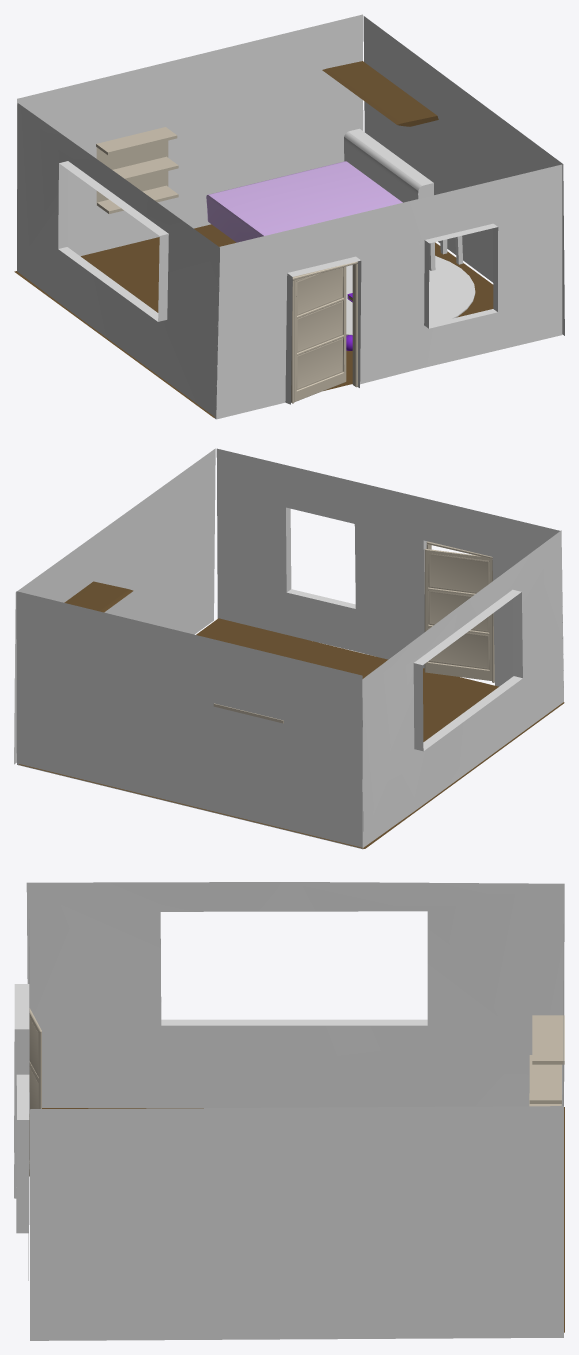
The model's file is Bedroom Game Last Final FBX.fbx.
3 views of the same model, one above another, from view 1: azimuth 30°, elevation 25°; view 2: azimuth 150°, elevation 25°; view 3: azimuth 270°, elevation 25° (orthographic). The views are drawn at different scales.
Visible parts, largest first — view 1: Wall Door, Wall plain, Wall big window, Wall Back, Bed Base, PivotDoor001, Floor, Headboard, Bookshelf bed, Rug, Bookcase001, BookcaseShelf003 (+2 smaller); view 2: Wall plain, Wall Door, Wall big window, Wall Back, Floor, PivotDoor001, Bookshelf bed; view 3: Wall Back, Wall big window, Wall Door, BookcaseShelf003, BookcaseShelf002, PivotDoor001.
Boxes of the visible parts, x1,y1,x2,y2 form: Wall Door: (216, 164, 562, 419); Wall plain: (17, 14, 363, 256); Wall big window: (17, 103, 219, 418); Wall Back: (363, 16, 564, 335); Bed Base: (206, 161, 402, 242); PivotDoor001: (291, 261, 357, 403); Floor: (14, 224, 493, 417); Headboard: (344, 128, 433, 202); Bookshelf bed: (322, 61, 438, 126); Rug: (346, 256, 475, 335); Bookcase001: (96, 140, 168, 205); BookcaseShelf003: (96, 127, 177, 154); Wall plain: (16, 591, 363, 848); Wall Door: (216, 448, 563, 686); Wall big window: (362, 530, 563, 849); Wall Back: (14, 448, 215, 764); Floor: (19, 618, 564, 848); PivotDoor001: (424, 541, 494, 682); Bookshelf bed: (64, 581, 133, 612); Wall Back: (30, 1106, 563, 1340); Wall big window: (26, 882, 564, 1107); Wall Door: (14, 919, 29, 1280); BookcaseShelf003: (532, 1015, 564, 1064); BookcaseShelf002: (529, 1055, 561, 1103); PivotDoor001: (29, 1008, 41, 1176).
Bounding box in the file's own units: 414 × 195 × 413.
